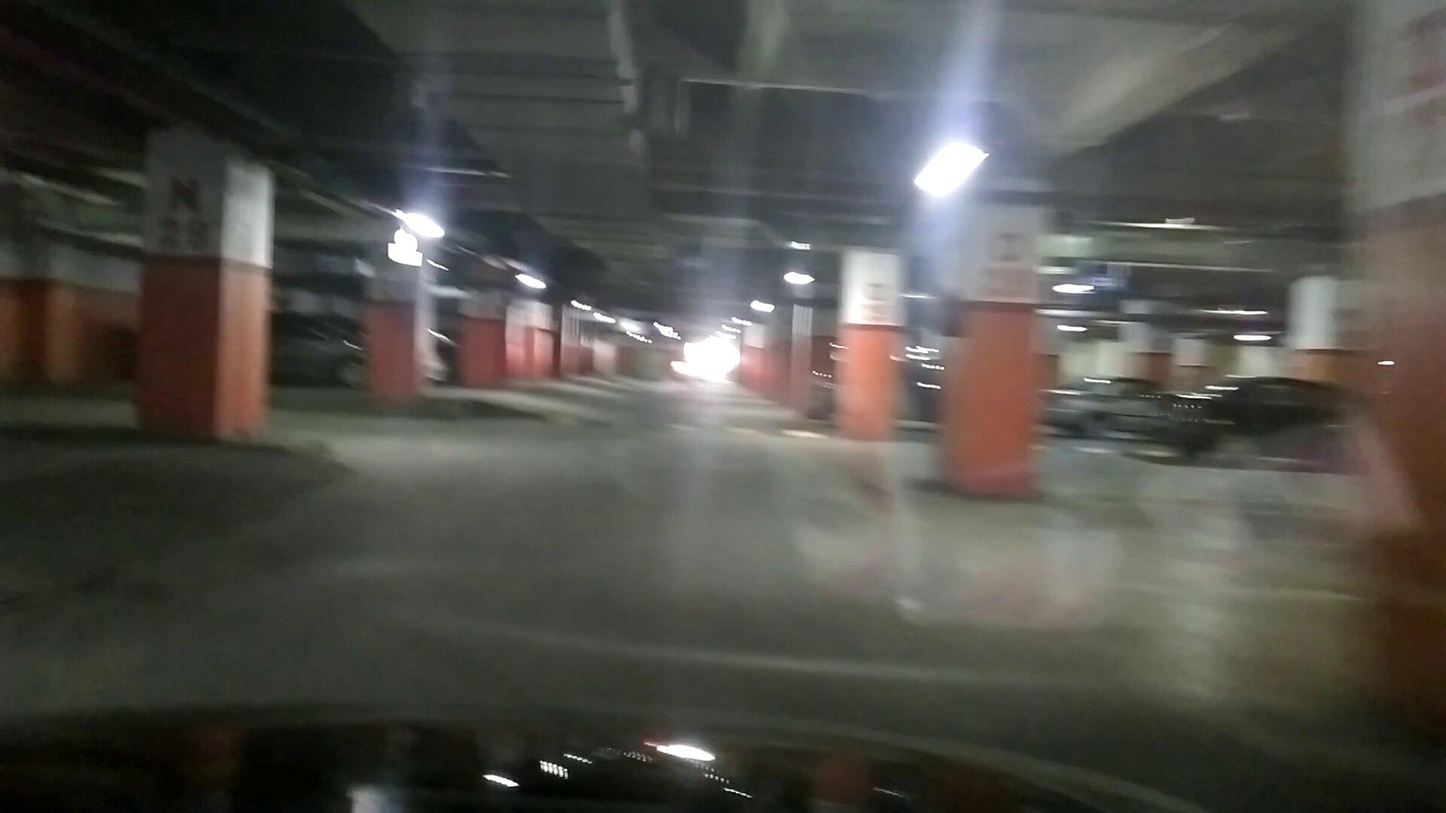Bump: (518, 416, 849, 433)
